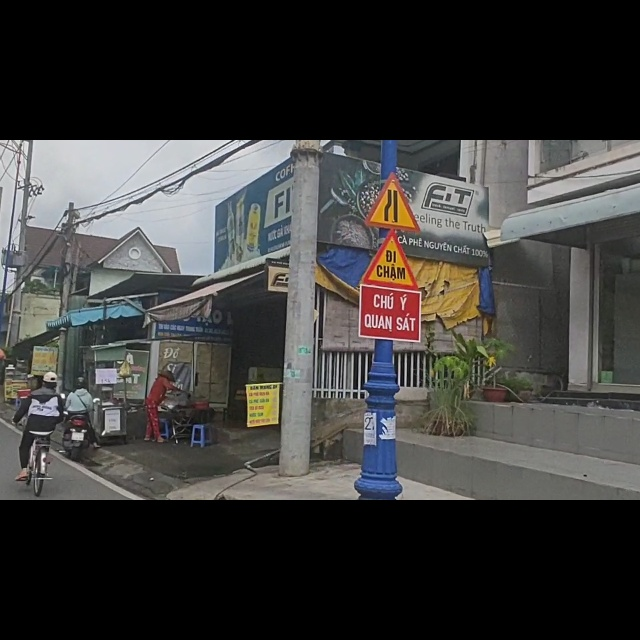Đi chậm: (361, 226, 419, 291)
Đường bị hẹp bên trái: (365, 171, 420, 232)
